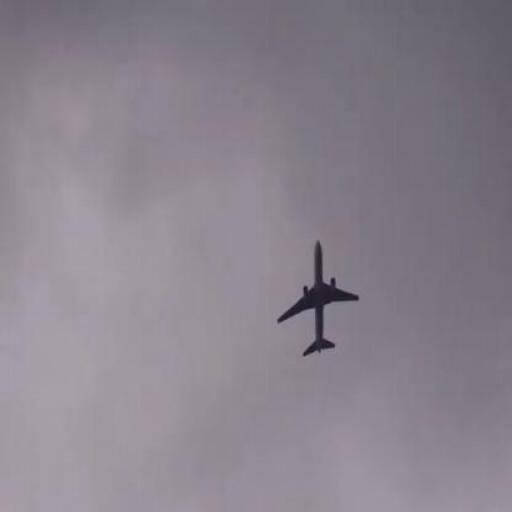aircraft: (278, 241, 359, 356)
